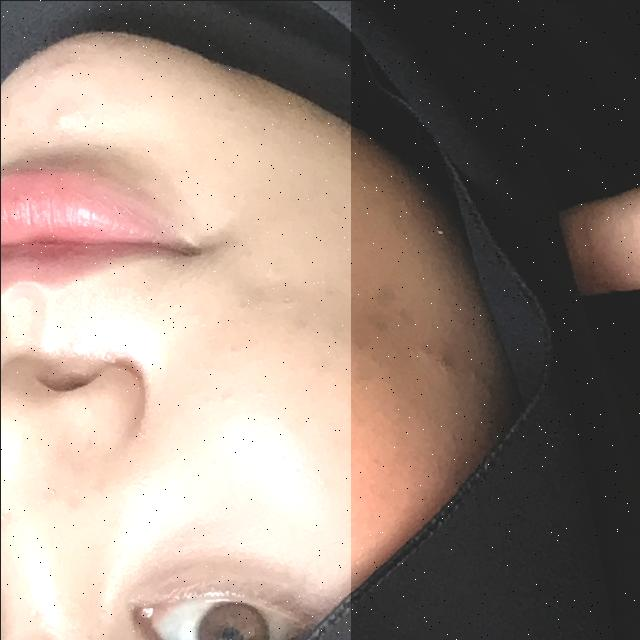mendengar: (350, 0, 640, 640)
